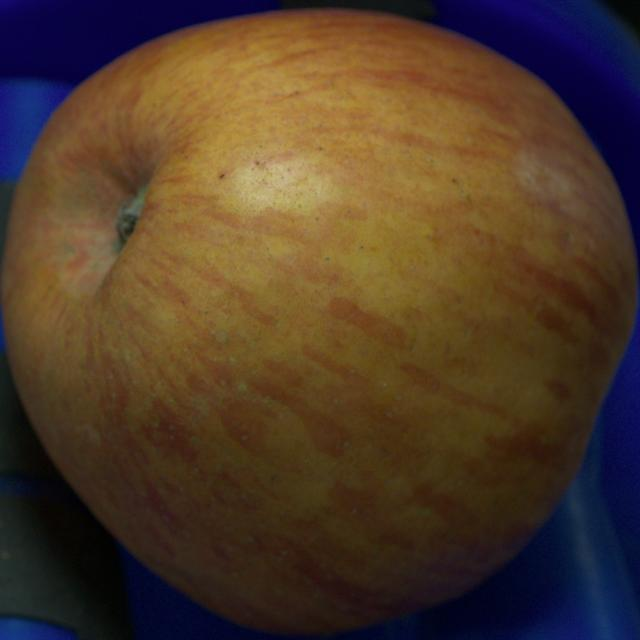apple: (1, 9, 638, 634)
bruise: (517, 153, 571, 213)
